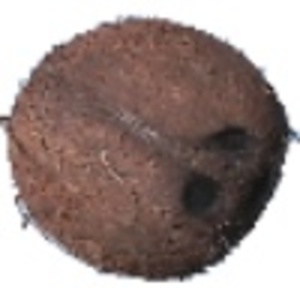coco: (1, 16, 300, 280)
